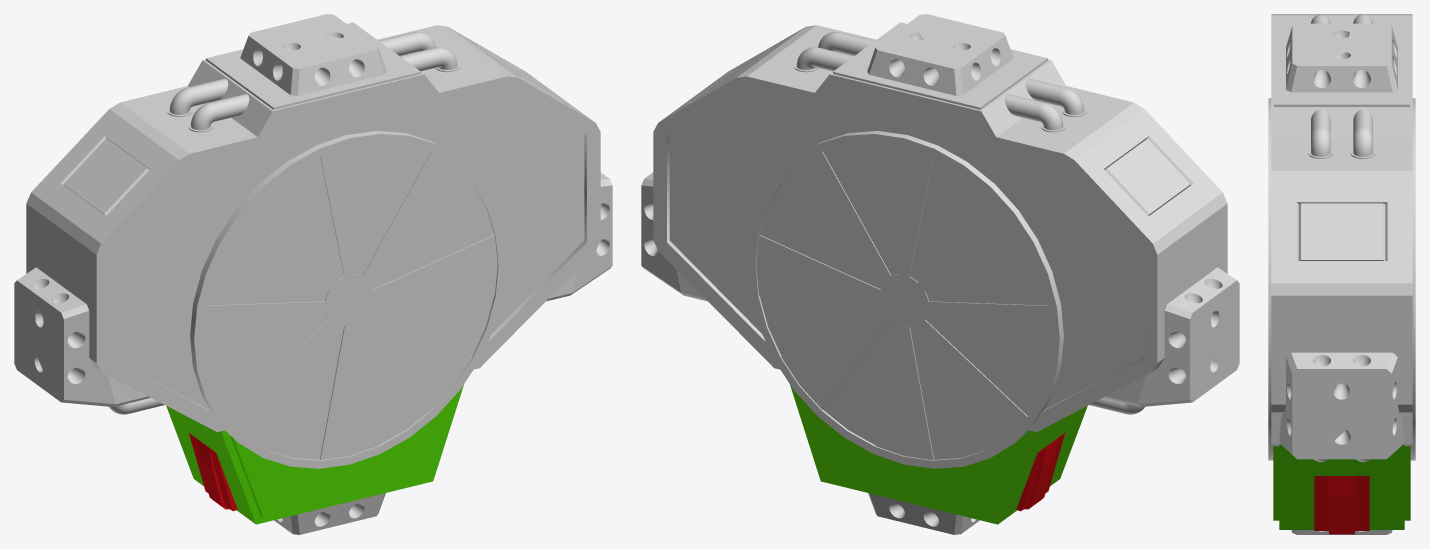
The model's file is KeepOnTruckin_SAS_RCS.fbx.
The picture shows the model from 3 angles, left to right: view 1: azimuth 30°, elevation 25°; view 2: azimuth 150°, elevation 25°; view 3: azimuth 270°, elevation 25°; orthographic projection.
Visible parts, largest first — view 1: Main Body, Hatch Tube Short Aft; view 2: Main Body, Hatch Tube Short Fore; view 3: Main Body, Hatch Tube Short Fore, Hatch Tube Short Aft.
Boxes of the visible parts, x1,y1,x2,y2 form: Main Body: (14,14,612,534); Hatch Tube Short Aft: (190,131,505,468); Main Body: (641,14,1239,534); Hatch Tube Short Fore: (748,131,1063,468); Main Body: (1271,14,1412,534); Hatch Tube Short Fore: (1404,98,1415,460); Hatch Tube Short Aft: (1268,98,1279,460).
Size of the model in its own units: 256 by 208 by 59.14.
